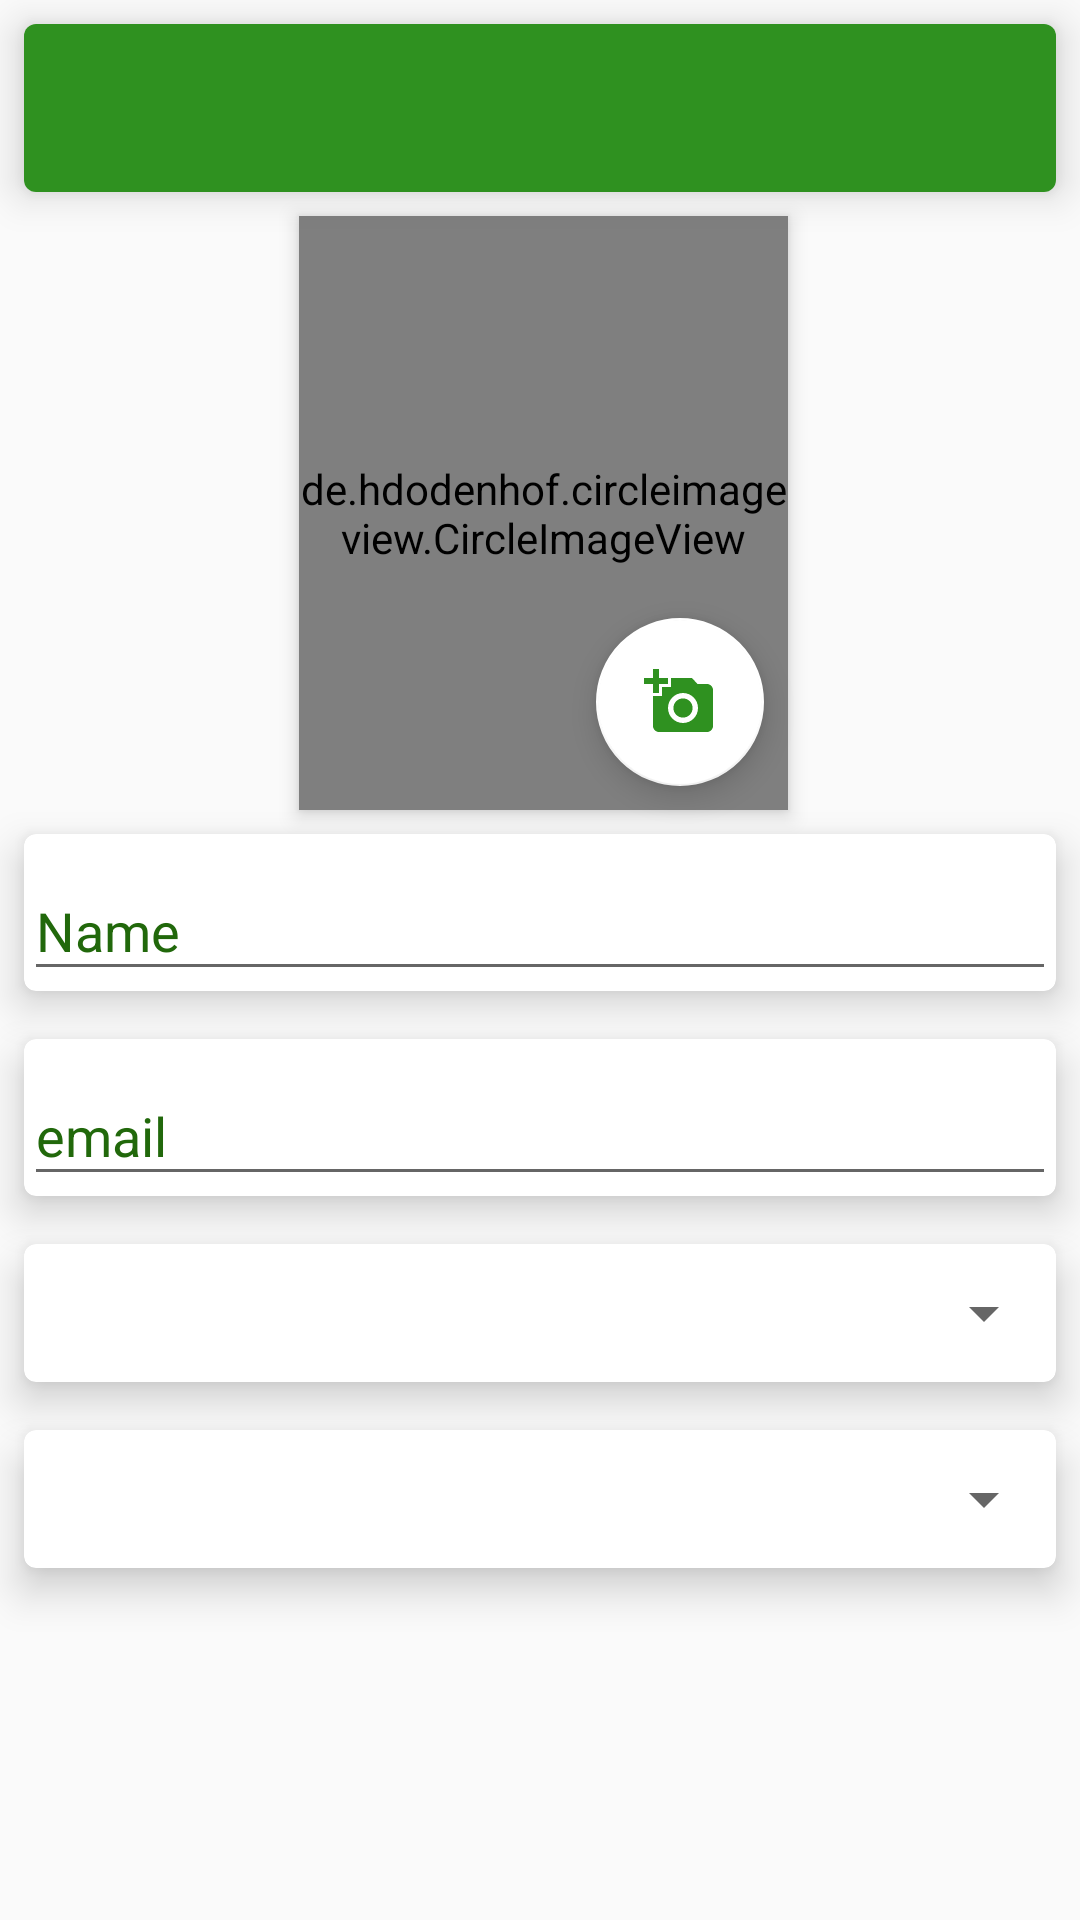

Named icons in this screenshot (1080*1920) and their bounding boxes, (x1, y1, x2, y2):
photo: (596, 618, 764, 786)
